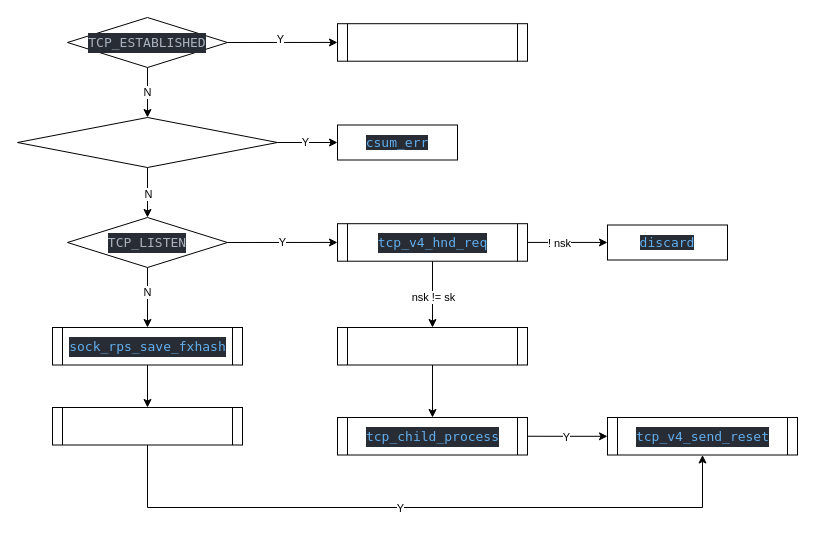
This 815x533 diagram has some shape labels left out. The shapes that lost their labels are listed below. From the top down, each one's box as (x1, y1, x2, y2) in pixels, then its label:
(336, 23, 528, 61): tcp_rcv_established
(16, 116, 278, 168): skb->len < tcphdrlen(skb)
(336, 326, 528, 365): sock_rps_save_rxhash
(52, 406, 242, 445): tcp_rcv_state_process
